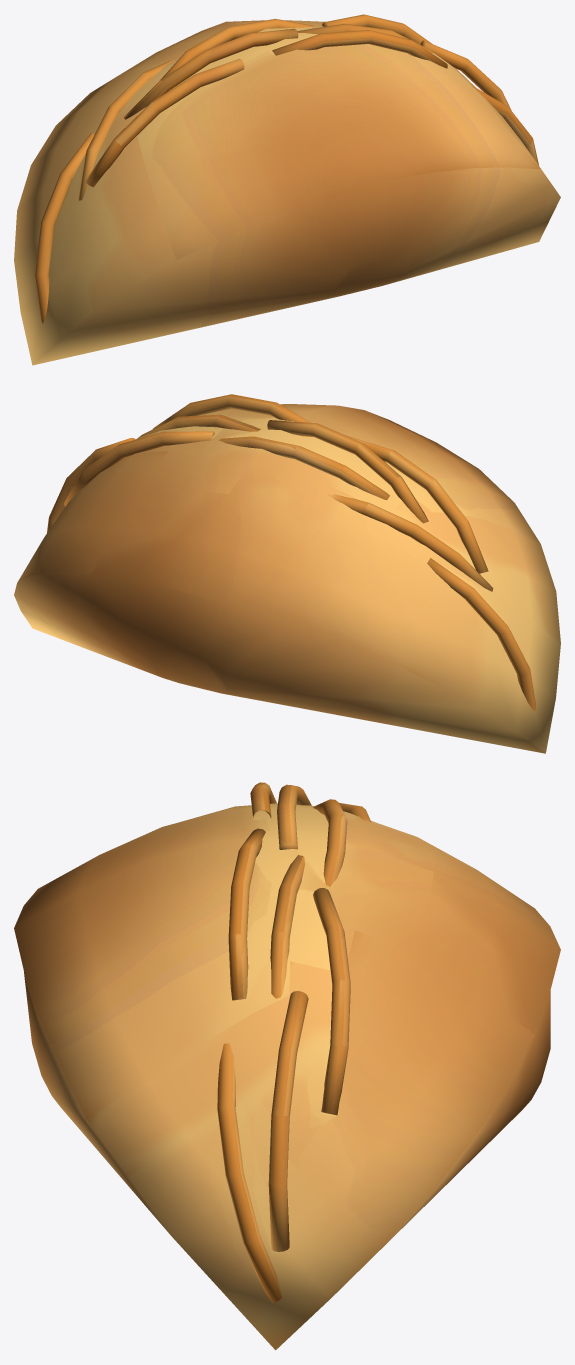
File: karipap.fbx
The picture shows the model from 3 angles, top to bottom: view 1: azimuth 30°, elevation 25°; view 2: azimuth 150°, elevation 25°; view 3: azimuth 270°, elevation 25°; orthographic projection. The views are drawn at different scales.
Visible parts, largest first — view 1: Torus; view 2: Torus; view 3: Torus.
Boxes of the visible parts, x1,y1,x2,y2 form: Torus: (14,14,560,365); Torus: (14,394,560,753); Torus: (14,782,560,1350).
Size of the model in its own units: 168 by 86.84 by 119.
